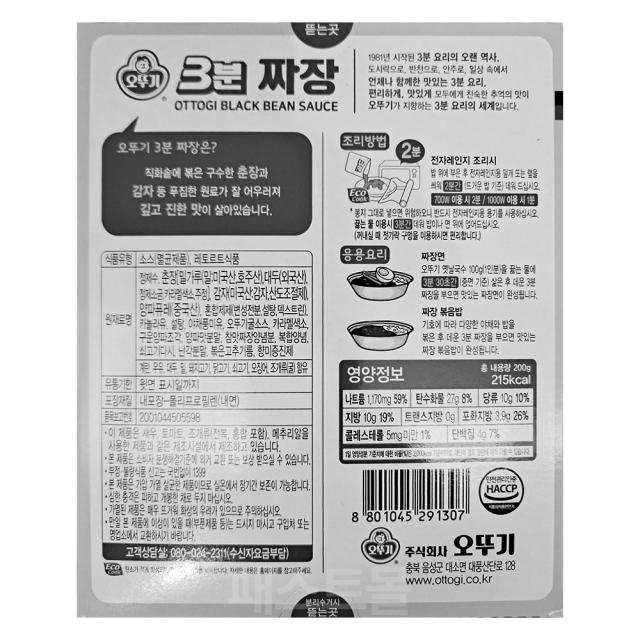Nutrition Label: (337, 356, 548, 465)
